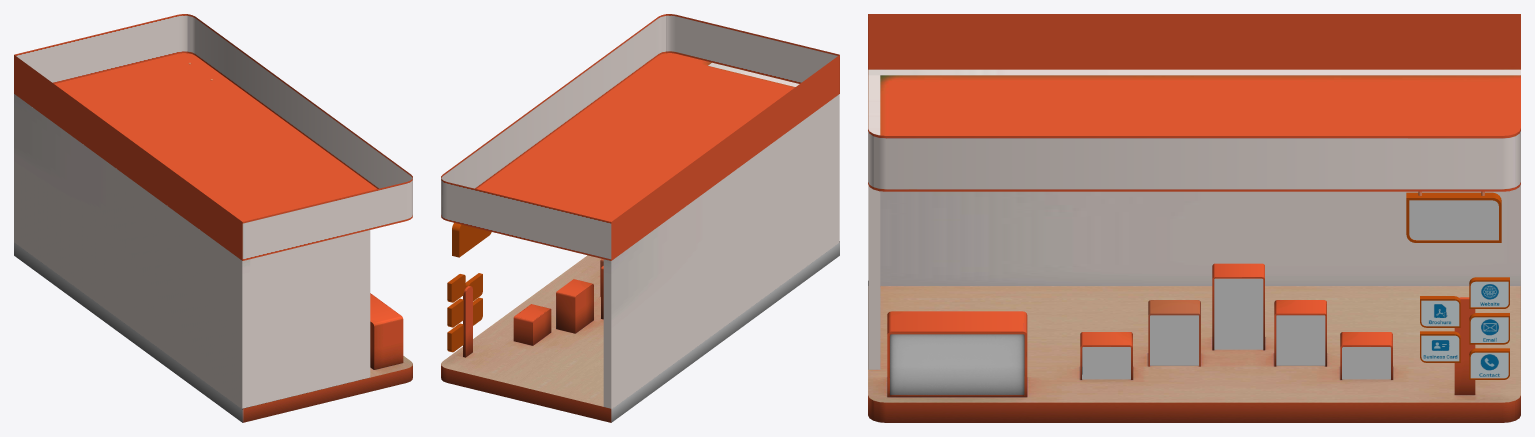
File: stallcompresswithoutavatar.glb
3 renders of one model, left to right at view 1: azimuth 30°, elevation 25°; view 2: azimuth 150°, elevation 25°; view 3: azimuth 270°, elevation 25°, orthographic. The views are drawn at different scales.
Visible parts, largest first — view 1: Cube.010, wall, base, desk, base wood; view 2: Cube.010, wall, base wood, base, Cube, p stand 04, p stand 05, contact stand 02.001; view 3: Cube.010, wall, base wood, p stand 01, base, desk, Cube, contact stand 02.001, p stand 03, p stand 04, p stand 02, Cube.001 (+5 smaller).
Boxes of the visible parts, x1,y1,x2,y2 form: Cube.010: (14, 14, 412, 260); wall: (14, 94, 370, 408); base: (14, 242, 412, 422); desk: (370, 293, 403, 369); base wood: (243, 356, 412, 408); Cube.010: (441, 14, 839, 260); wall: (603, 62, 839, 409); base wood: (441, 255, 603, 406); base: (441, 242, 839, 422); Cube: (447, 223, 491, 352); p stand 04: (556, 279, 593, 333); p stand 05: (513, 304, 551, 345); contact stand 02.001: (463, 286, 472, 357); Cube.010: (868, 14, 1520, 191); wall: (868, 69, 1520, 369); base wood: (868, 281, 1520, 402); p stand 01: (1080, 200, 1498, 379); base: (868, 395, 1520, 422); desk: (887, 311, 1027, 397); Cube: (1406, 192, 1509, 379); contact stand 02.001: (1454, 297, 1475, 394); p stand 03: (1212, 263, 1264, 350); p stand 04: (1274, 300, 1326, 366); p stand 02: (1148, 300, 1200, 366); Cube.001: (1421, 300, 1459, 326).
Bounding box in the file's own units: 8.53 × 9.37 × 19.29.
Materials: 19 (16 with a texture image).
